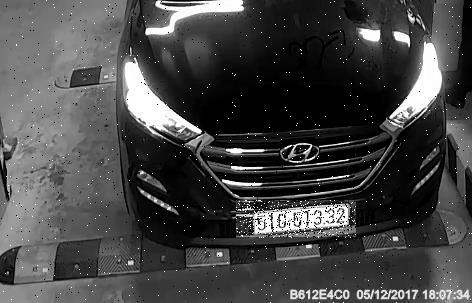License-plate: (237, 202, 357, 240)
